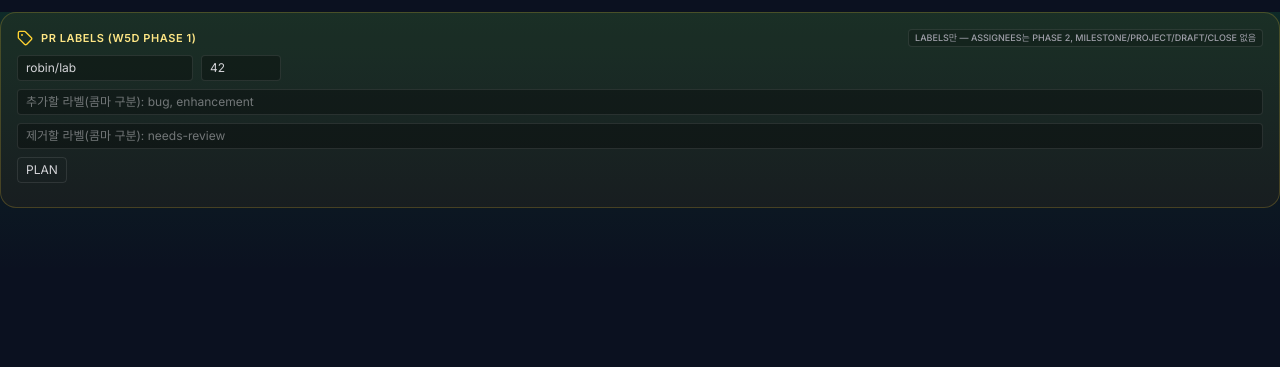
Test: PullRequestLabelsUpdateCard — W5d Phase 1 › (#2) Plan + approval + Execute → /pr/labels/execute 호출 + observed UI(appliedLabels)
The width and height of the screenshot is (1280, 367).
In the field named "pr-labels add": (640, 102) [17,89,1263,115], type "enhancement"
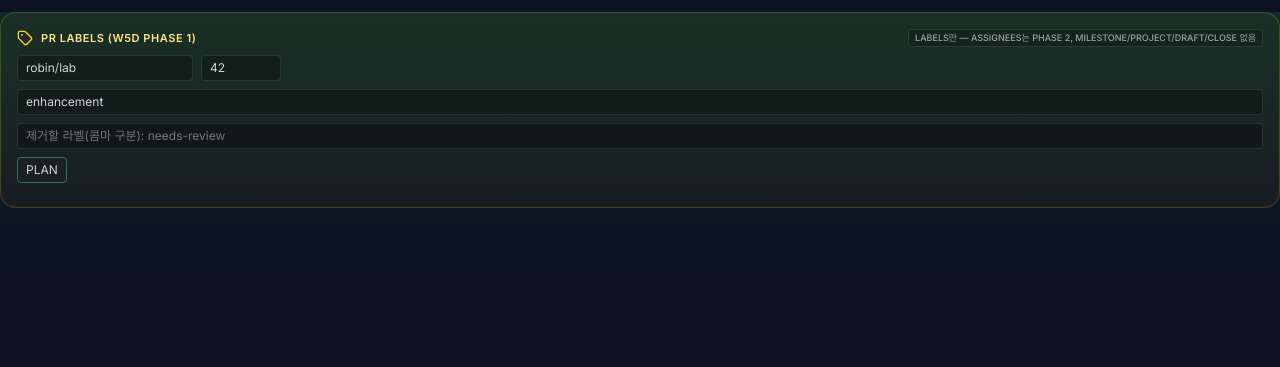
In the field named "pr-labels remove": (640, 136) [17,123,1263,149], type "needs-review"
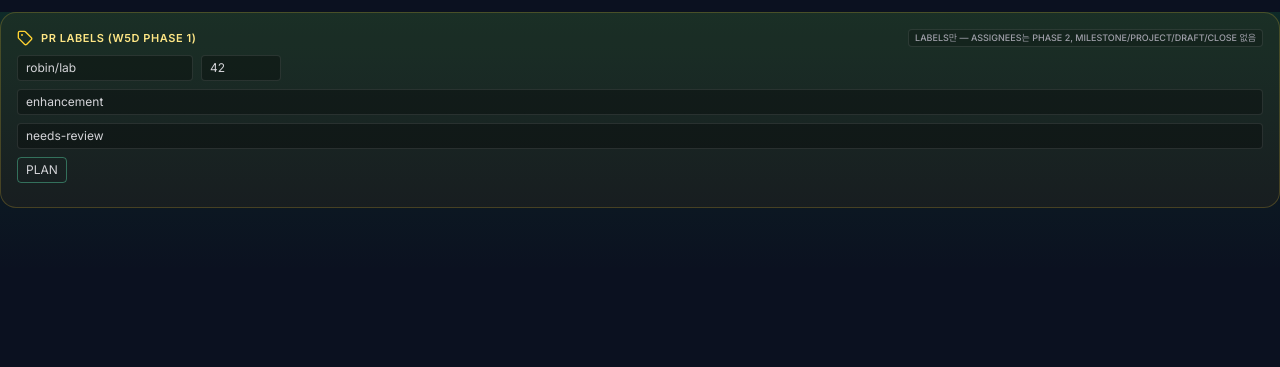
Click the button with test id "publish-pr-labels-plan": (42, 170) [17,157,67,183]
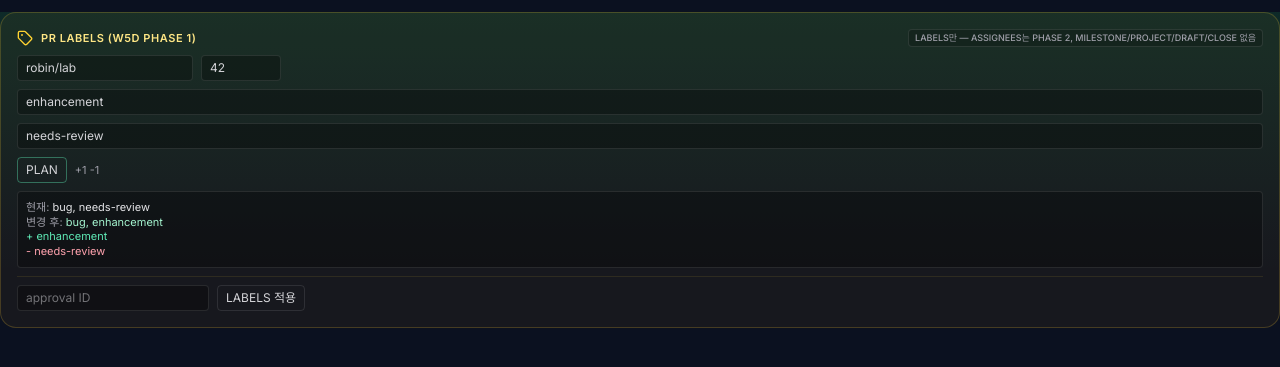
Check: the text "+1 -1" is shown, box [75,163,99,177]
In the field named "pr-labels approval ID": (113, 298) [17,285,209,311], type "appr-z"
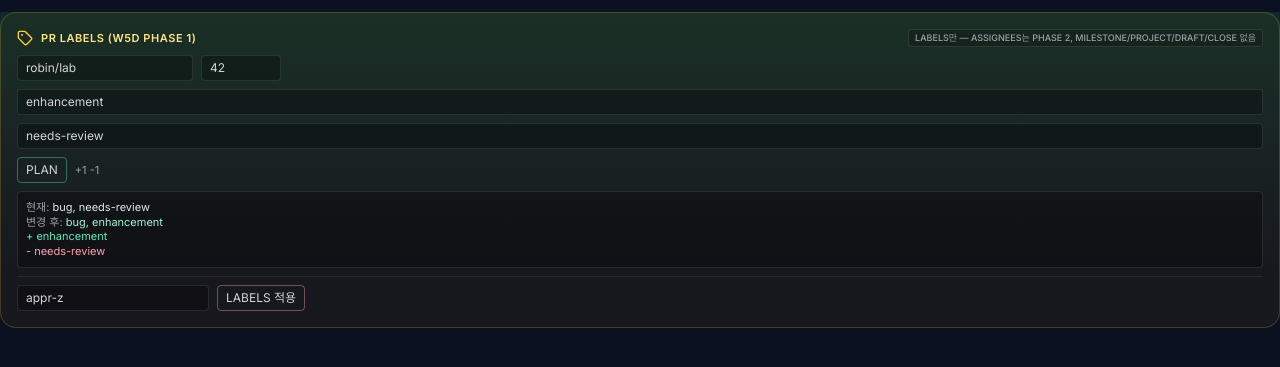
Click the button with test id "publish-pr-labels-execute": (261, 298) [217,285,305,311]
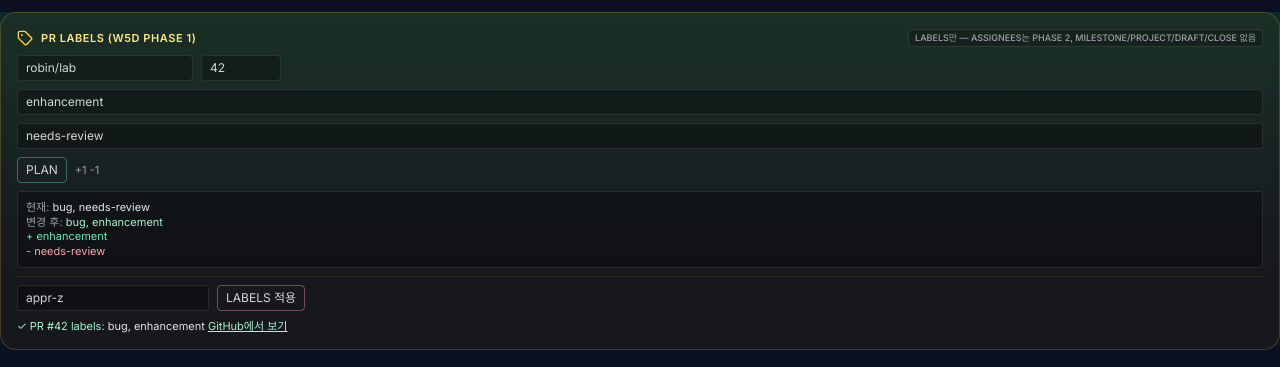
Check: the element with test id "publish-pr-labels-observed" shows "PR #42", box [17,319,287,333]
Check: the element with test id "publish-pr-labels-observed" shows "bug, enhancement", box [108,319,205,333]
